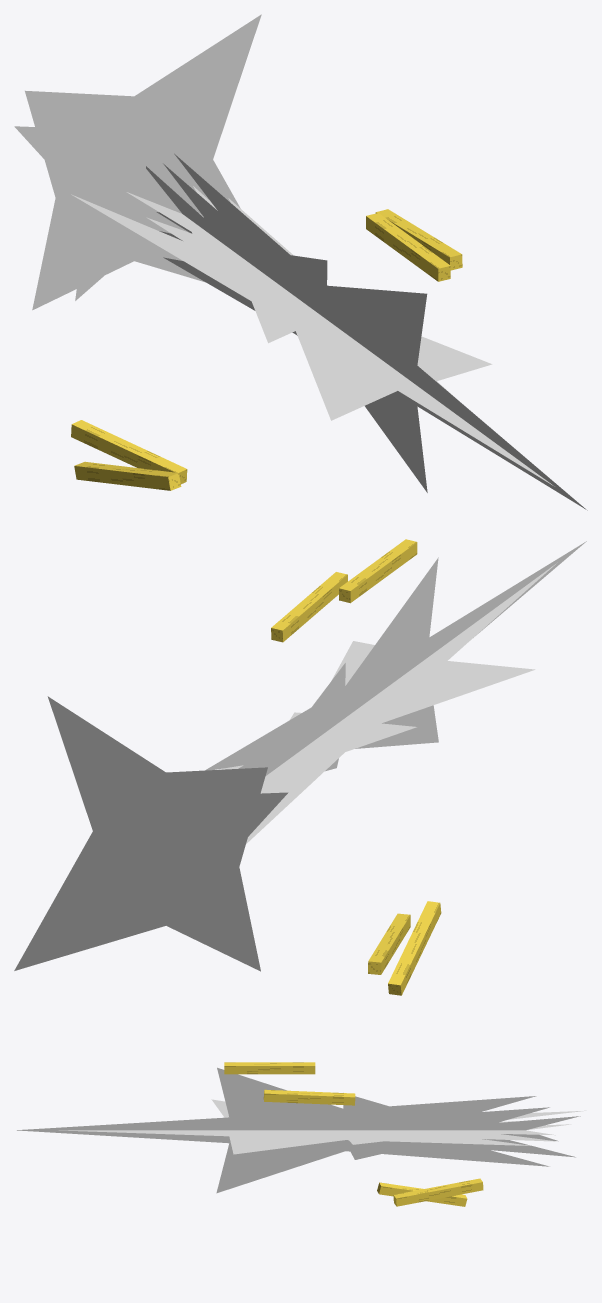
File: SMG Muzzle Flash.fbx
3 views of the same model, one above another, from view 1: azimuth 30°, elevation 25°; view 2: azimuth 150°, elevation 25°; view 3: azimuth 270°, elevation 25° (orthographic). The views are drawn at different scales.
Parts seen in each view (by area): view 1: SMG Muzzle Flash star 0, SMG Muzzle Flash flame up 0, SMG Muzzle Flash flame flat 0, SMG Muzzle Flash star 1, SMG Muzzle Flash star 2, SMG Muzzle Flash flame flat 1, SMG Muzzle Flash flame up 1, SMG Muzzle Flash spark 2, SMG Muzzle Flash spark 1, SMG Muzzle Flash spark 0, SMG Muzzle Flash flame flat 2, SMG Muzzle Flash spark 3 (+1 smaller); view 2: SMG Muzzle Flash star 0, SMG Muzzle Flash flame up 0, SMG Muzzle Flash flame flat 0, SMG Muzzle Flash flame flat 1, SMG Muzzle Flash spark 0, SMG Muzzle Flash spark 1, SMG Muzzle Flash spark 3, SMG Muzzle Flash flame up 1, SMG Muzzle Flash spark 2, SMG Muzzle Flash star 1; view 3: SMG Muzzle Flash flame up 0, SMG Muzzle Flash flame up 1, SMG Muzzle Flash flame flat 0, SMG Muzzle Flash flame flat 1, SMG Muzzle Flash spark 1, SMG Muzzle Flash spark 3, SMG Muzzle Flash spark 2, SMG Muzzle Flash flame up 2, SMG Muzzle Flash spark 0, SMG Muzzle Flash flame flat 2.
Boxes of the visible parts, <box> form: SMG Muzzle Flash star 0: <box>25,14,261,310</box>; SMG Muzzle Flash flame up 0: <box>163,153,587,510</box>; SMG Muzzle Flash flame flat 0: <box>71,194,554,486</box>; SMG Muzzle Flash star 1: <box>14,84,209,300</box>; SMG Muzzle Flash star 2: <box>92,110,195,242</box>; SMG Muzzle Flash flame flat 1: <box>146,186,328,343</box>; SMG Muzzle Flash flame up 1: <box>159,163,327,335</box>; SMG Muzzle Flash spark 2: <box>71,420,187,484</box>; SMG Muzzle Flash spark 1: <box>366,213,450,281</box>; SMG Muzzle Flash spark 0: <box>74,461,181,490</box>; SMG Muzzle Flash flame flat 2: <box>126,192,265,275</box>; SMG Muzzle Flash spark 3: <box>375,209,462,270</box>; SMG Muzzle Flash star 0: <box>14,696,267,971</box>; SMG Muzzle Flash flame up 0: <box>205,541,586,770</box>; SMG Muzzle Flash flame flat 0: <box>221,562,557,843</box>; SMG Muzzle Flash flame flat 1: <box>260,657,428,793</box>; SMG Muzzle Flash spark 0: <box>388,901,441,995</box>; SMG Muzzle Flash spark 1: <box>339,539,417,603</box>; SMG Muzzle Flash spark 3: <box>271,572,347,642</box>; SMG Muzzle Flash flame up 1: <box>238,663,394,771</box>; SMG Muzzle Flash spark 2: <box>368,913,410,974</box>; SMG Muzzle Flash star 1: <box>248,792,288,836</box>; SMG Muzzle Flash flame up 0: <box>17,1067,549,1193</box>; SMG Muzzle Flash flame up 1: <box>225,1096,575,1159</box>; SMG Muzzle Flash flame flat 0: <box>59,1099,586,1154</box>; SMG Muzzle Flash flame flat 1: <box>233,1121,557,1144</box>; SMG Muzzle Flash spark 1: <box>224,1062,315,1074</box>; SMG Muzzle Flash spark 3: <box>263,1089,355,1105</box>; SMG Muzzle Flash spark 2: <box>393,1178,483,1206</box>; SMG Muzzle Flash flame up 2: <box>423,1110,580,1147</box>; SMG Muzzle Flash spark 0: <box>377,1182,467,1206</box>; SMG Muzzle Flash flame flat 2: <box>418,1124,571,1140</box>.
Size of the model in its own units: 0.1279 by 0.1241 by 0.3149.
Materials: 4 (1 with a texture image).
